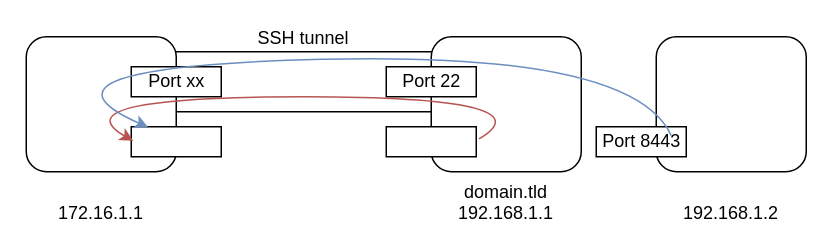
This 833x251 diagram has some shape labels left out. Here are the shapes that lost their labels. From the top down, the centre of each, then its label:
At pixel 175 141: "Port 3000".
At pixel 430 141: "Port 443".
